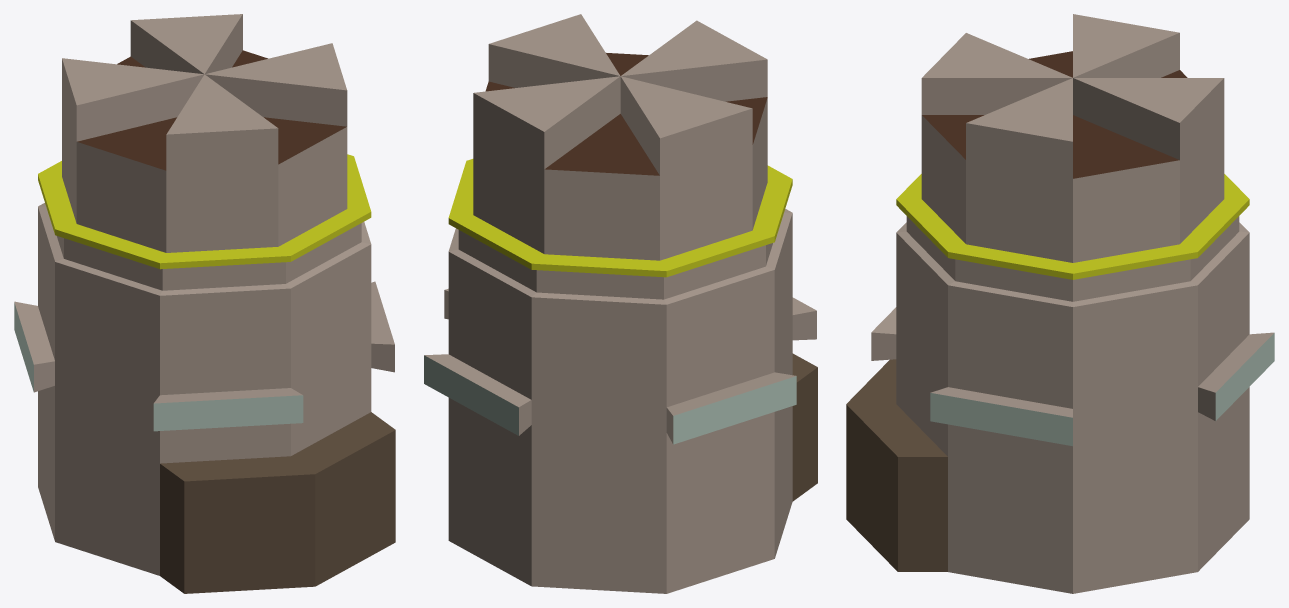
File: Tower_Colored.fbx
3 renders of one model, left to right at view 1: azimuth 30°, elevation 25°; view 2: azimuth 150°, elevation 25°; view 3: azimuth 270°, elevation 25°, orthographic. The views are drawn at different scales.
Parts seen in each view (by area): view 1: Cylinder; view 2: Cylinder; view 3: Cylinder.
Boxes of the visible parts, x1,y1,x2,y2 form: Cylinder: (14, 14, 395, 593); Cylinder: (424, 14, 817, 593); Cylinder: (846, 14, 1274, 593).
Size of the model in its own units: 228 by 276 by 243.
